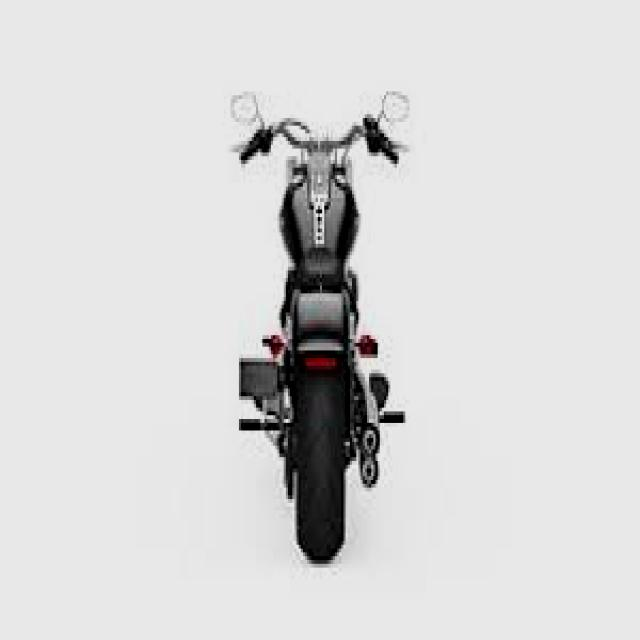MOTORCYCLE: (271, 150, 377, 575)
